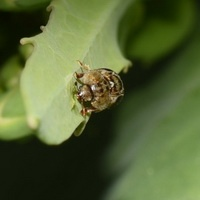insect: (73, 60, 123, 115)
